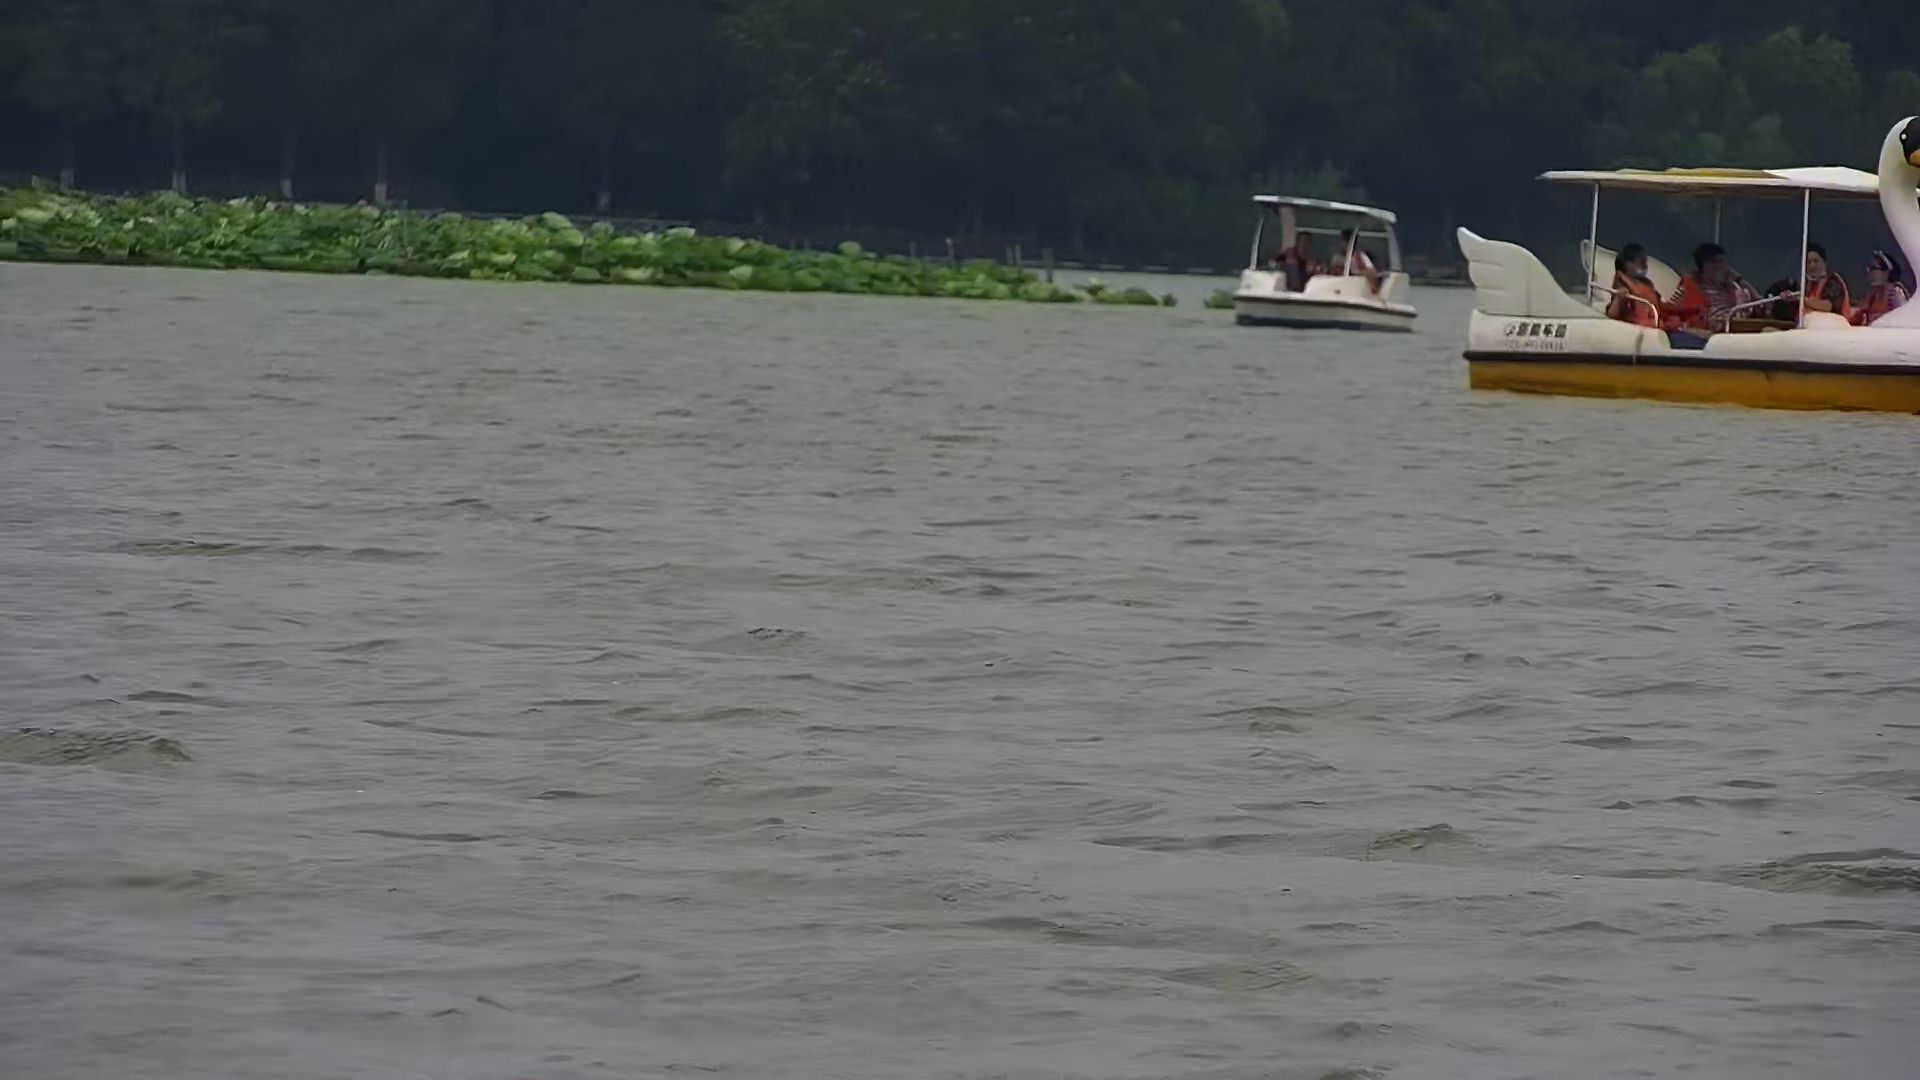boat: (1447, 101, 1920, 417), (1236, 186, 1420, 339)
person: (1687, 239, 1740, 345), (1615, 241, 1662, 334), (1807, 249, 1848, 325), (1861, 250, 1901, 323)
